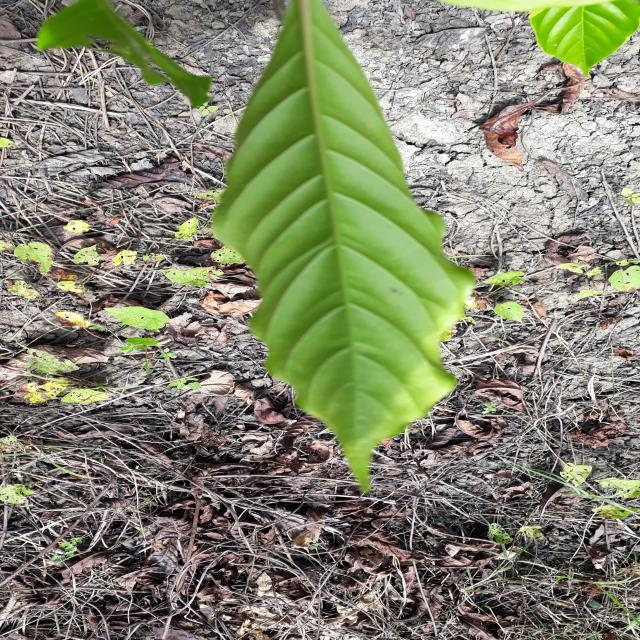Sanas: (210, 0, 477, 495)
